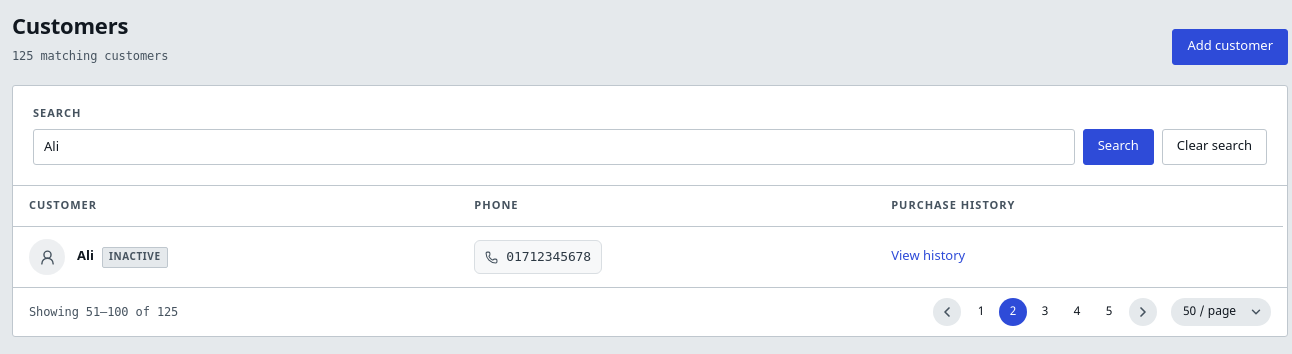
clears search with page size retained and restores input on browser traversal
Click the button "Clear search" at [1214, 146], box [1162,128,1267,164]
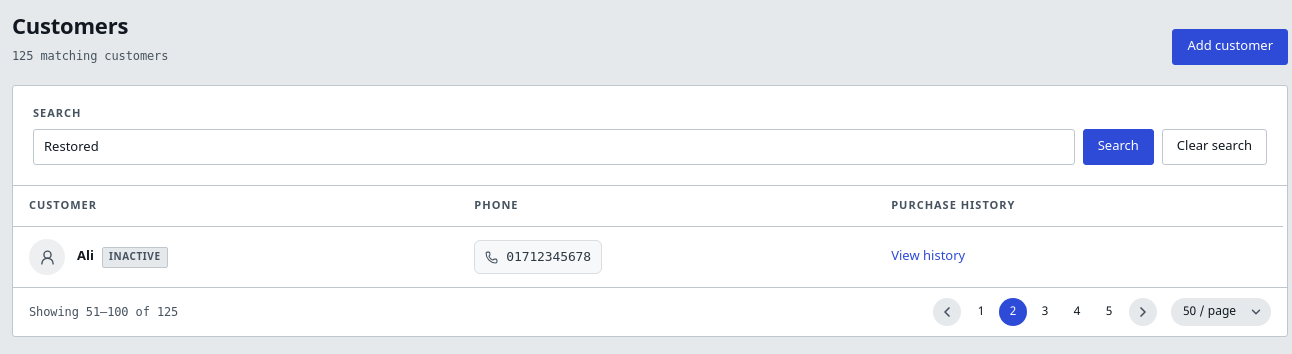
Expected: the search field named "q" holds "Restored", [33,128,1075,164]
